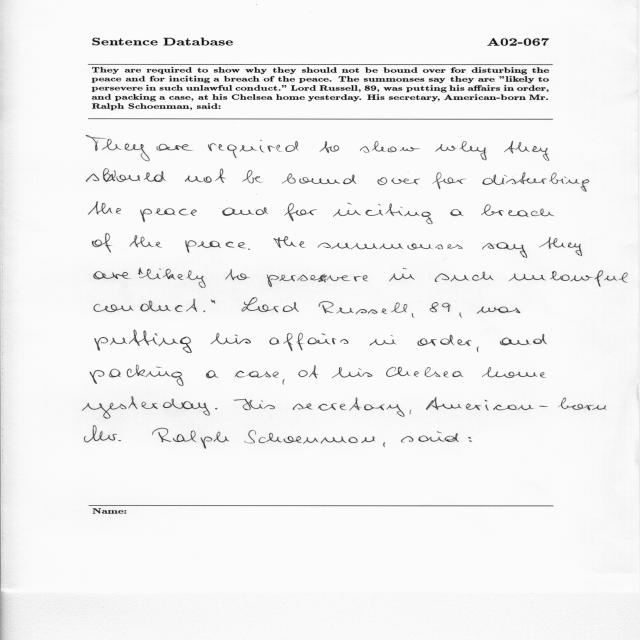word: (82, 397, 210, 419), (426, 397, 607, 410), (293, 397, 405, 417), (95, 330, 192, 353), (482, 172, 589, 192), (333, 203, 433, 224), (508, 270, 628, 287), (90, 365, 184, 386), (244, 430, 375, 444), (208, 140, 298, 158), (152, 428, 229, 449), (86, 136, 150, 161), (269, 333, 349, 351), (267, 273, 368, 287), (139, 268, 206, 288), (94, 299, 197, 312), (319, 301, 407, 314), (86, 169, 166, 182), (318, 243, 463, 250), (435, 141, 487, 160), (481, 205, 555, 218), (504, 141, 549, 161), (241, 298, 299, 313), (539, 237, 582, 256), (282, 174, 356, 185), (140, 208, 197, 222), (185, 240, 246, 253), (386, 367, 464, 377), (360, 141, 420, 153), (482, 242, 527, 258), (482, 367, 546, 378), (435, 271, 494, 282), (85, 425, 121, 443), (401, 432, 459, 443), (285, 203, 318, 221), (418, 335, 472, 346), (433, 172, 467, 189), (185, 169, 226, 183), (500, 334, 547, 345), (234, 399, 275, 410), (211, 333, 251, 344), (332, 367, 372, 378), (88, 202, 121, 215), (129, 235, 162, 248), (223, 207, 269, 216), (92, 233, 112, 253), (273, 236, 306, 248), (378, 177, 421, 185), (94, 271, 132, 280), (389, 268, 415, 281), (477, 307, 521, 314), (369, 335, 396, 346), (242, 170, 263, 183), (226, 269, 250, 280), (299, 365, 319, 378), (157, 144, 193, 151), (235, 371, 271, 378), (320, 141, 339, 153), (430, 302, 451, 312), (273, 372, 285, 385), (206, 370, 219, 378), (450, 209, 464, 216), (138, 268, 143, 275), (211, 299, 215, 304), (468, 437, 472, 442), (476, 347, 479, 353), (460, 313, 463, 318), (412, 313, 414, 318), (383, 443, 385, 448), (410, 410, 412, 414), (248, 248, 250, 250), (203, 311, 206, 312), (215, 408, 218, 409)
